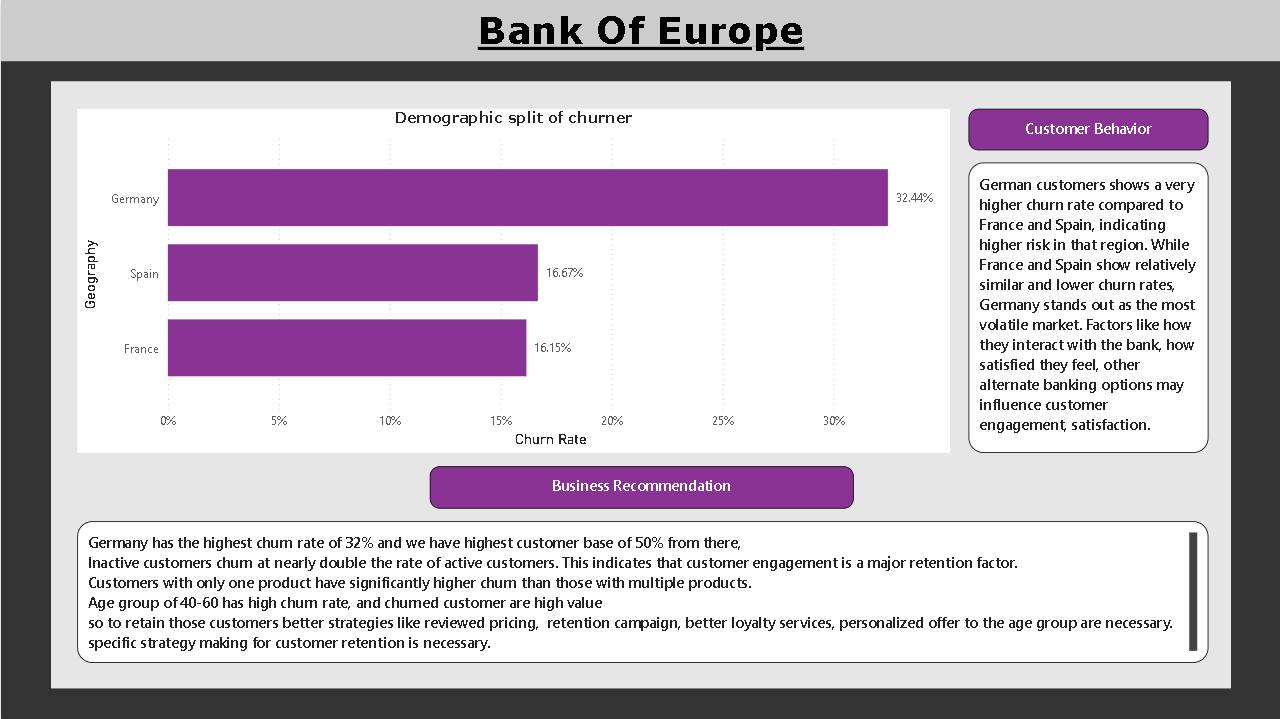

What the dashboard file says about the page in this screenshot:
{"tool":"powerbi","page":{"name":"Page 3","canvas":[1280,720],"ordinal":2},"visuals":[{"type":"shape","box":[50,81.2,1180,607.5],"z":0},{"type":"shape","box":[0,0,1280,61.2],"z":1000},{"type":"textbox","box":[436.2,1.2,407.5,60],"z":2000},{"type":"textbox","box":[967.5,162.5,240,290],"z":3000},{"type":"textbox","box":[76.2,521.2,1131.2,141.2],"z":4000},{"type":"clusteredBarChart","title":"Demographic split of churner","fields":{"Category":["Bank_Churn. Geography"],"Y":["Bank_Churn.Churn Rate"]},"box":[76.2,108.8,872.5,343.8],"z":5000},{"type":"textbox","box":[428.1,466.2,423.8,42.5],"z":6000},{"type":"textbox","box":[967.5,108.8,240,41.2],"z":7000}]}

Visuals, with their boxes in screenshot pixels (x1, y1, x2, y2), scaled from the page's 1280x720 canvas onto the 1280x719 screenshot:
shape: select_region(50, 81, 1230, 688)
shape: select_region(0, 0, 1279, 61)
textbox: select_region(436, 1, 844, 61)
textbox: select_region(968, 162, 1208, 452)
textbox: select_region(76, 520, 1207, 661)
"Demographic split of churner" clusteredBarChart: select_region(76, 109, 949, 452)
textbox: select_region(428, 466, 852, 508)
textbox: select_region(968, 109, 1208, 150)
